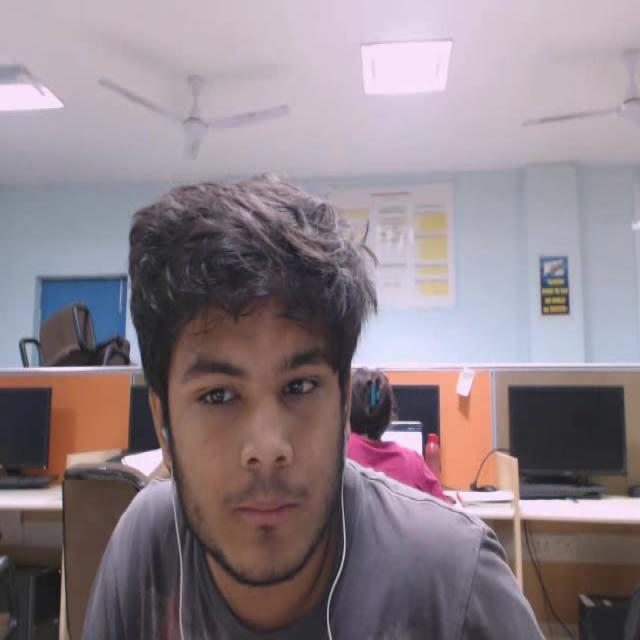Engaged: (89, 156, 442, 598)
